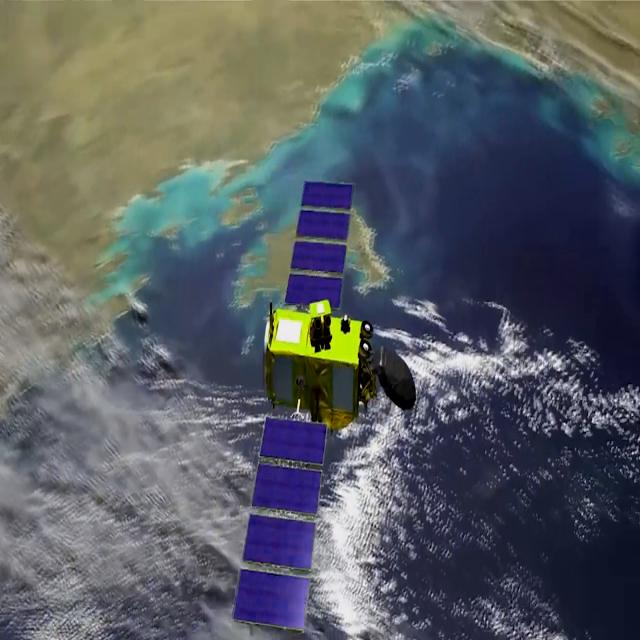satellite: (208, 122, 419, 640)
